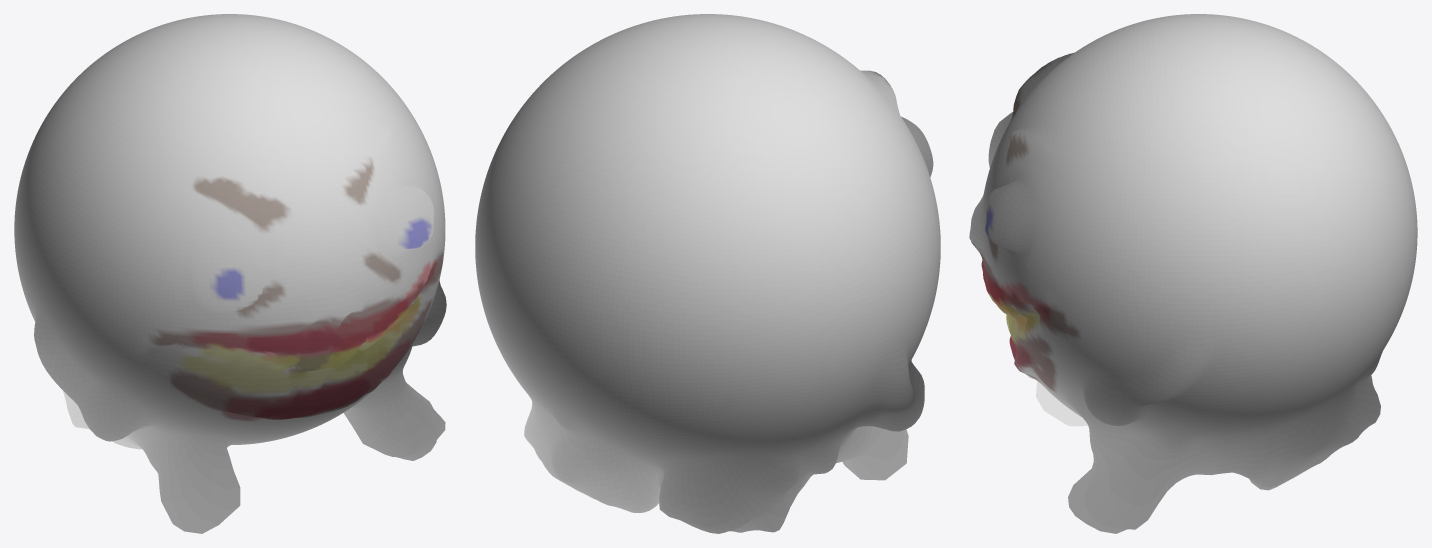
3 views of the same model, side by side, from view 1: azimuth 30°, elevation 25°; view 2: azimuth 150°, elevation 25°; view 3: azimuth 270°, elevation 25° (orthographic). The views are drawn at different scales.
Visible parts, largest first — view 1: Quad Sphere; view 2: Quad Sphere; view 3: Quad Sphere.
Boxes of the visible parts, left/top/right/bottom form: Quad Sphere: left=14, top=14, right=446, bottom=533; Quad Sphere: left=475, top=14, right=940, bottom=533; Quad Sphere: left=969, top=14, right=1417, bottom=533.
Size of the model in its own units: 266 by 283 by 263.
